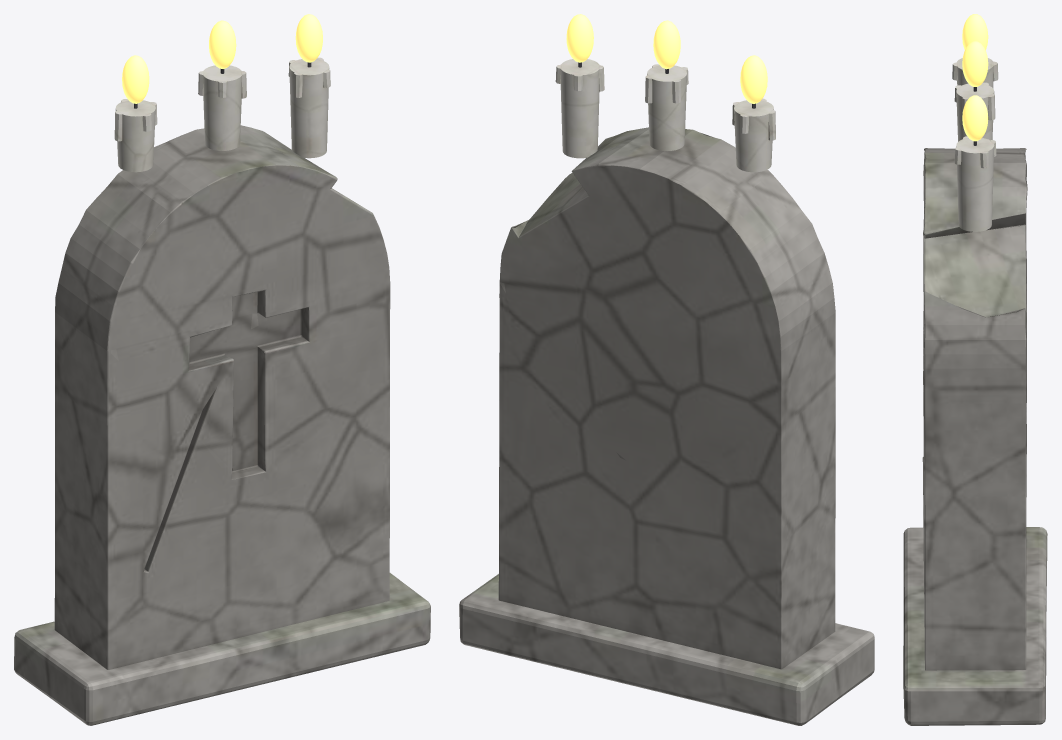
File: tomb.glb
3 views of the same model, side by side, from view 1: azimuth 30°, elevation 25°; view 2: azimuth 150°, elevation 25°; view 3: azimuth 270°, elevation 25° (orthographic). The views are drawn at different scales.
Parts seen in each view (by area): view 1: stone_grey, wax_old, glow_fire; view 2: stone_grey, wax_old, glow_fire; view 3: stone_grey, wax_old, glow_fire.
Boxes of the visible parts, x1,y1,x2,y2 form: stone_grey: (14, 125, 430, 725); wax_old: (114, 57, 330, 172); glow_fire: (122, 14, 322, 103); stone_grey: (459, 127, 874, 725); wax_old: (555, 59, 775, 172); glow_fire: (566, 14, 767, 103); stone_grey: (903, 148, 1047, 725); wax_old: (952, 58, 998, 231); glow_fire: (962, 14, 988, 141).
Bounding box in the file's own units: 0.3199 × 0.563 × 0.1212.
4 materials, 3 textured.
